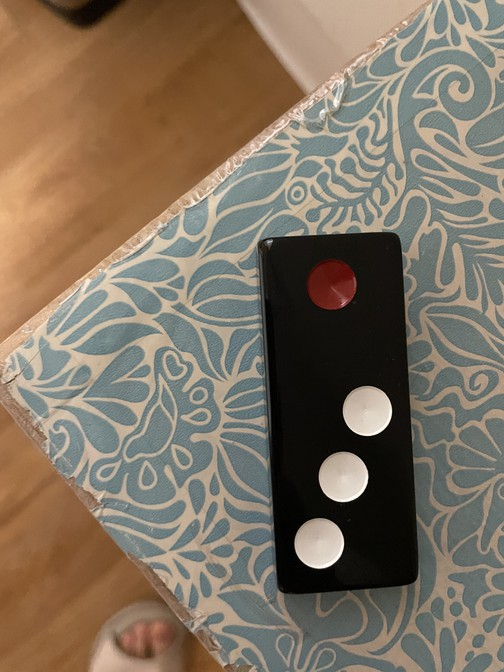goose: (256, 235, 421, 593)
